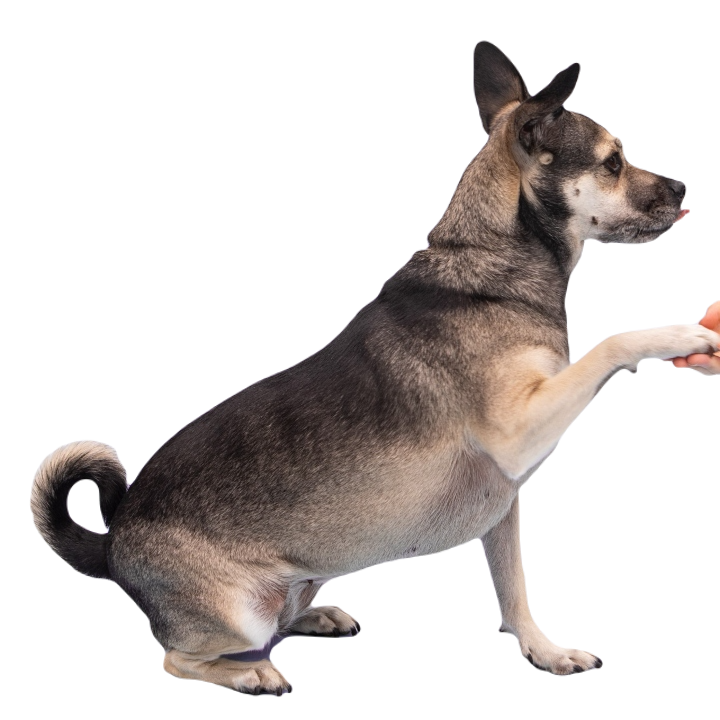Dog: (28, 36, 714, 697)
